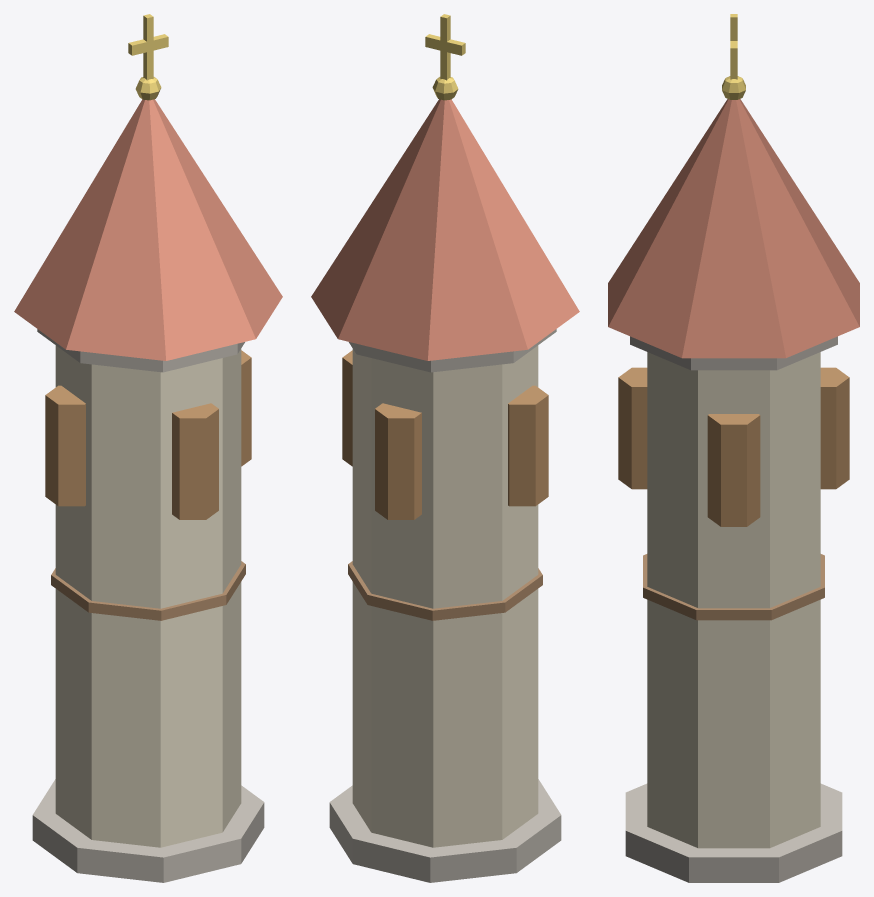
File: bell_tower.glb
3 views of the same model, side by side, from view 1: azimuth 30°, elevation 25°; view 2: azimuth 150°, elevation 25°; view 3: azimuth 270°, elevation 25° (orthographic).
Parts seen in each view (by area): view 1: Player; view 2: Player; view 3: Player.
Part boxes in pixels (left/top/right/bottom): Player: left=14, top=14, right=282, bottom=882; Player: left=311, top=14, right=579, bottom=882; Player: left=608, top=14, right=859, bottom=882.
Size of the model in its own units: 2.68 by 9.65 by 2.68.
